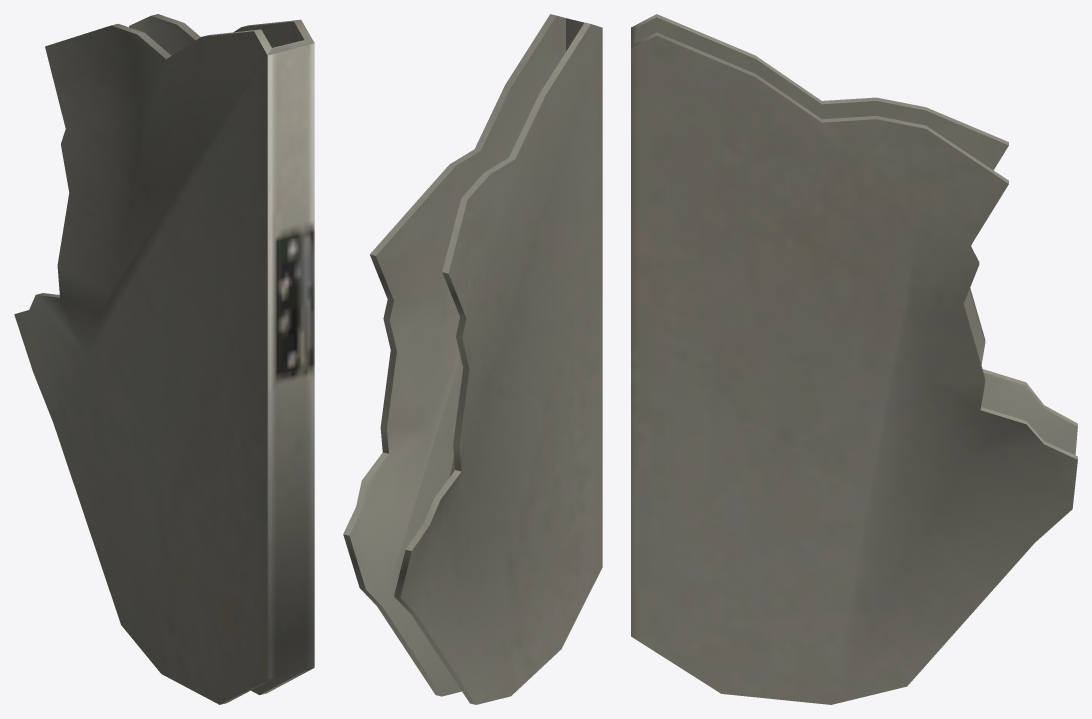
File: doormainmetalwindowsmall01_dm08_h.glb
The picture shows the model from 3 angles, left to right: view 1: azimuth 30°, elevation 25°; view 2: azimuth 150°, elevation 25°; view 3: azimuth 270°, elevation 25°; orthographic projection. The views are drawn at different scales.
Parts seen in each view (by area): view 1: doormainmetalwindowsmall01_dm08_h; view 2: doormainmetalwindowsmall01_dm08_h; view 3: doormainmetalwindowsmall01_dm08_h.
Part boxes in pixels (x1,y1,x2,y2): doormainmetalwindowsmall01_dm08_h: [14, 14, 314, 704]; doormainmetalwindowsmall01_dm08_h: [343, 14, 602, 704]; doormainmetalwindowsmall01_dm08_h: [631, 14, 1077, 704].
Size of the model in its own units: 0.074 by 0.5507 by 0.3332.
1 material, 1 textured.
